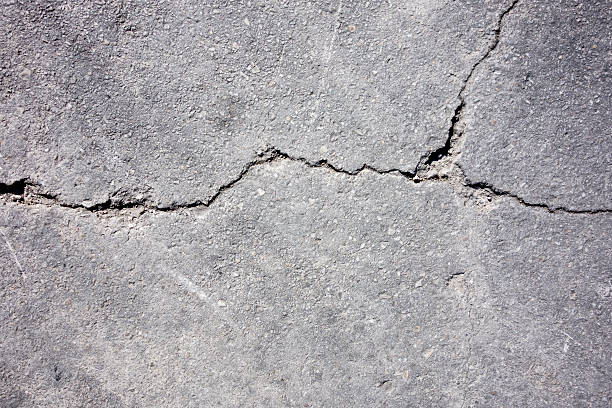Retak Melintang: (1, 1, 609, 234)
